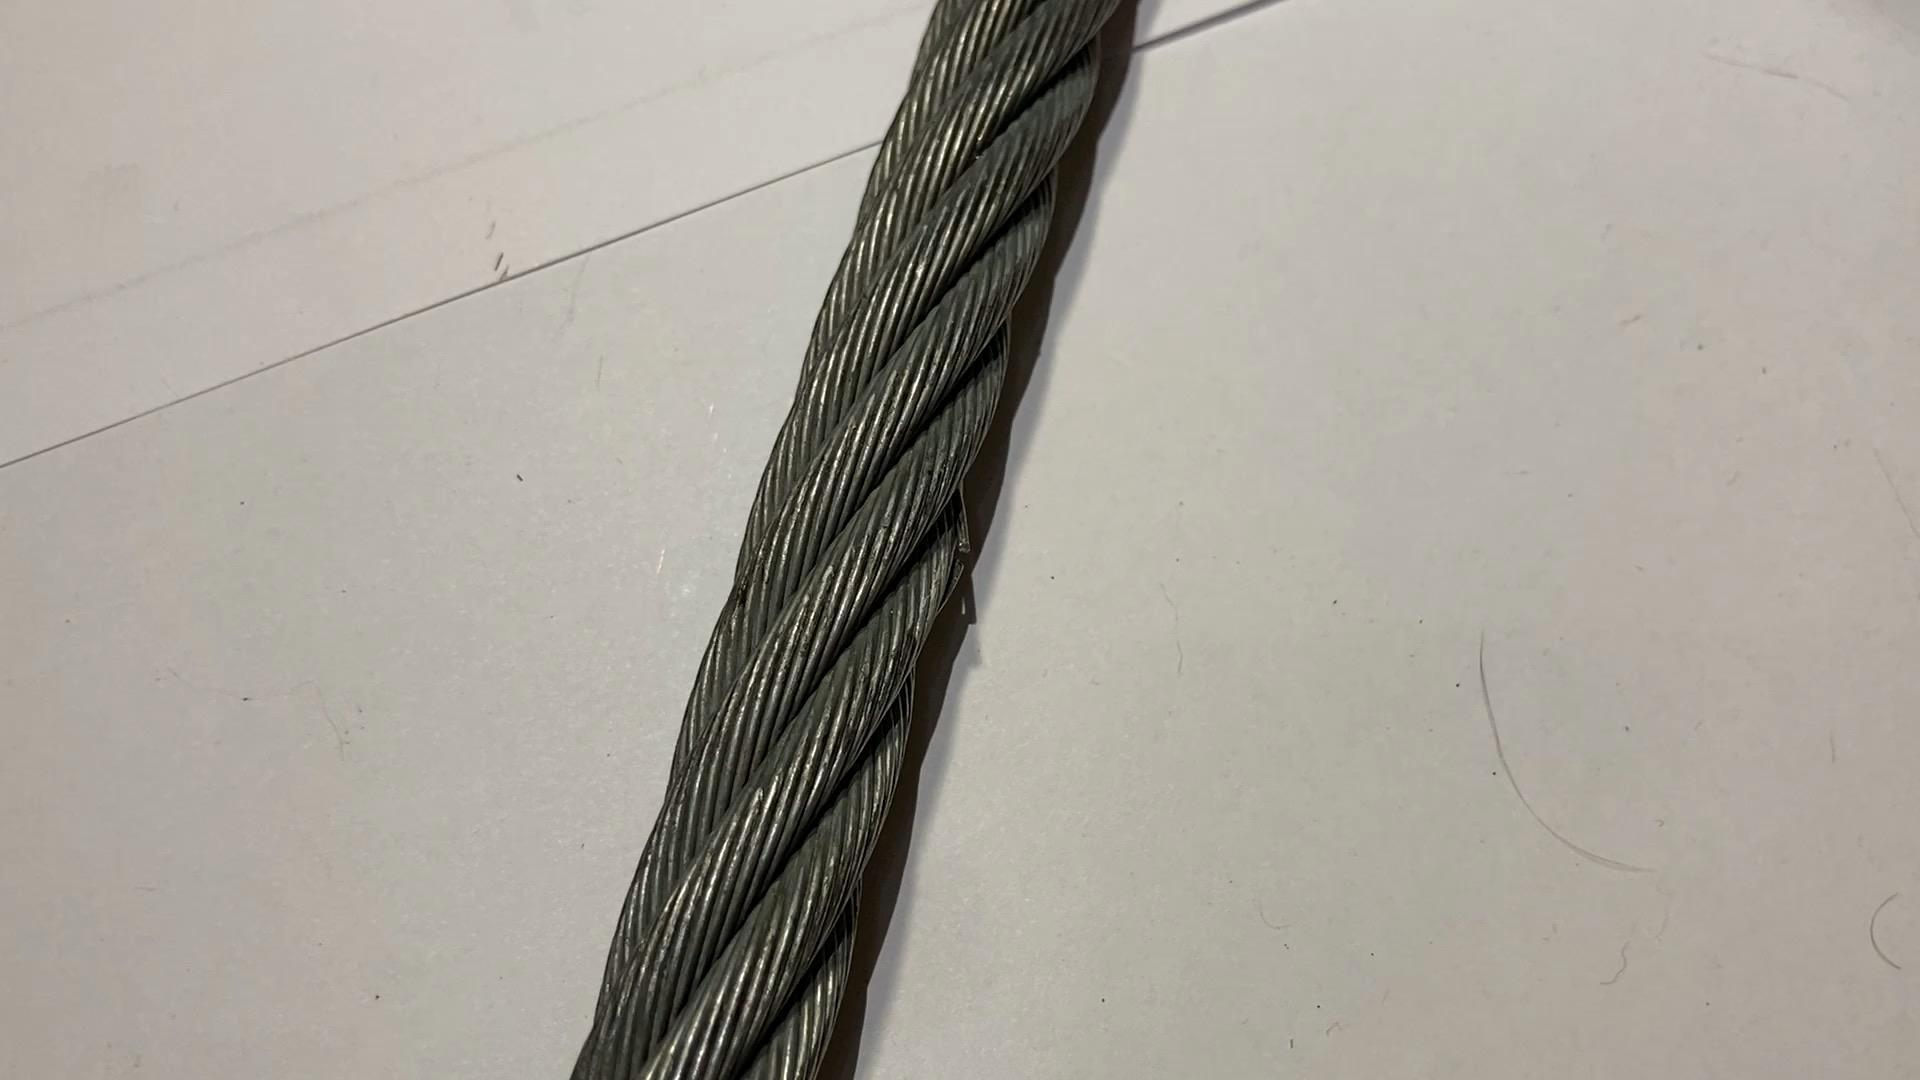break: (934, 504, 976, 604)
